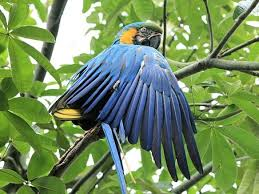guacamaya: (51, 19, 206, 194)
